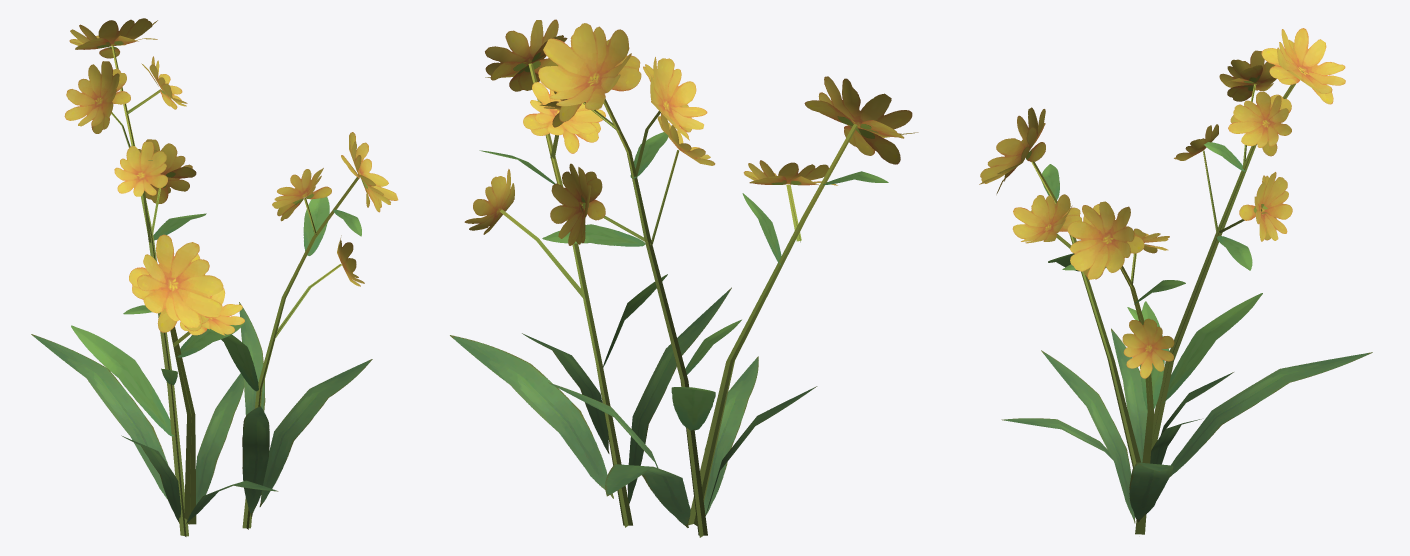
The model's file is Area_MdProps_Flower05_Vo.fbx.
3 views of the same model, side by side, from view 1: azimuth 30°, elevation 25°; view 2: azimuth 150°, elevation 25°; view 3: azimuth 270°, elevation 25° (orthographic). The views are drawn at different scales.
Visible parts, largest first — view 1: Area_MdProps_Flower05_Vo; view 2: Area_MdProps_Flower05_Vo; view 3: Area_MdProps_Flower05_Vo.
Boxes of the visible parts, x1=… form: Area_MdProps_Flower05_Vo: x1=31, y1=18, x2=398, y2=536; Area_MdProps_Flower05_Vo: x1=450, y1=19, x2=918, y2=537; Area_MdProps_Flower05_Vo: x1=979, y1=28, x2=1372, y2=534.
Size of the model in its own units: 0.496 by 0.6788 by 0.546.
1 material, 1 textured.
